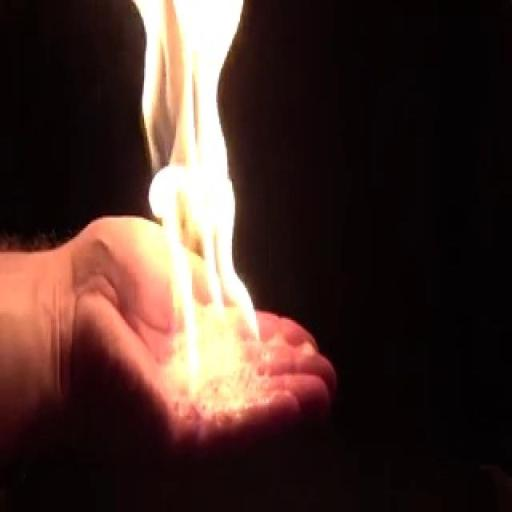smoke: (110, 2, 240, 380)
